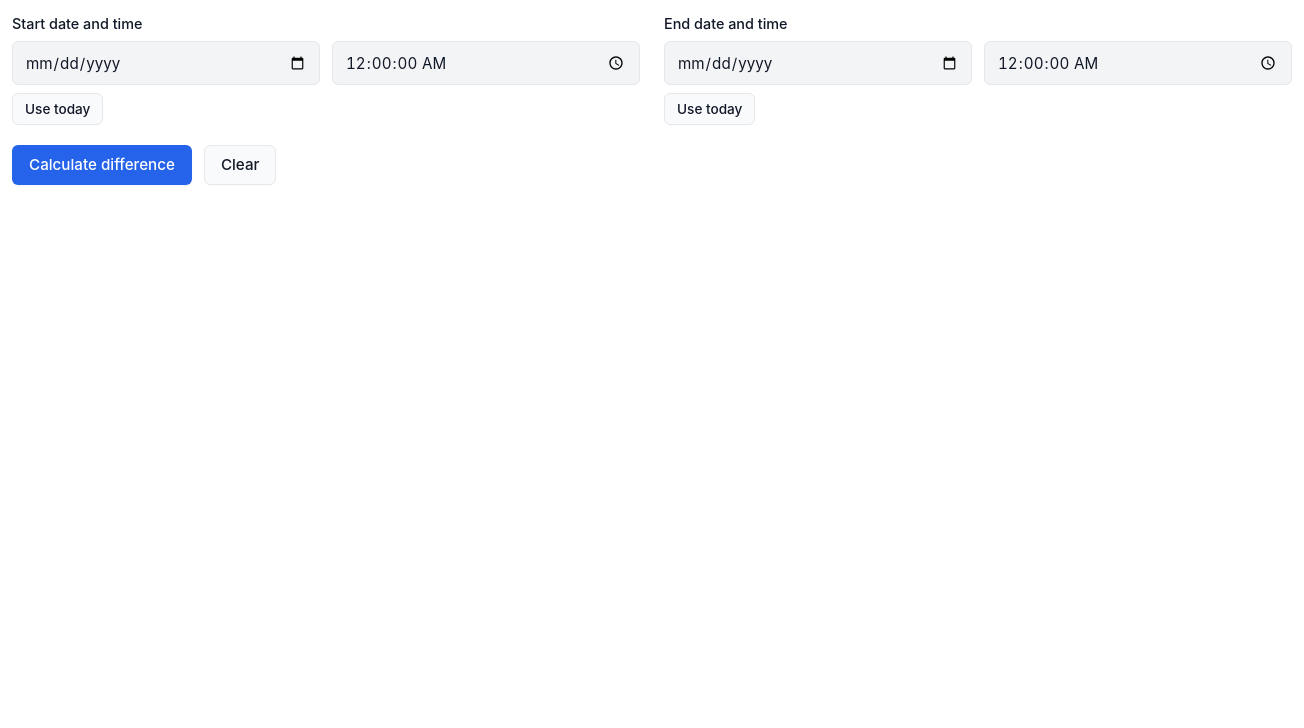
it: Date Difference Calculator › swaps a negative order and says so
The width and height of the screenshot is (1304, 728).
Type "2026-09-21" into the date field named "Start date and time date".
click(166, 63); type("2026-09-21")  # box x1=12 y1=41 x2=320 y2=85
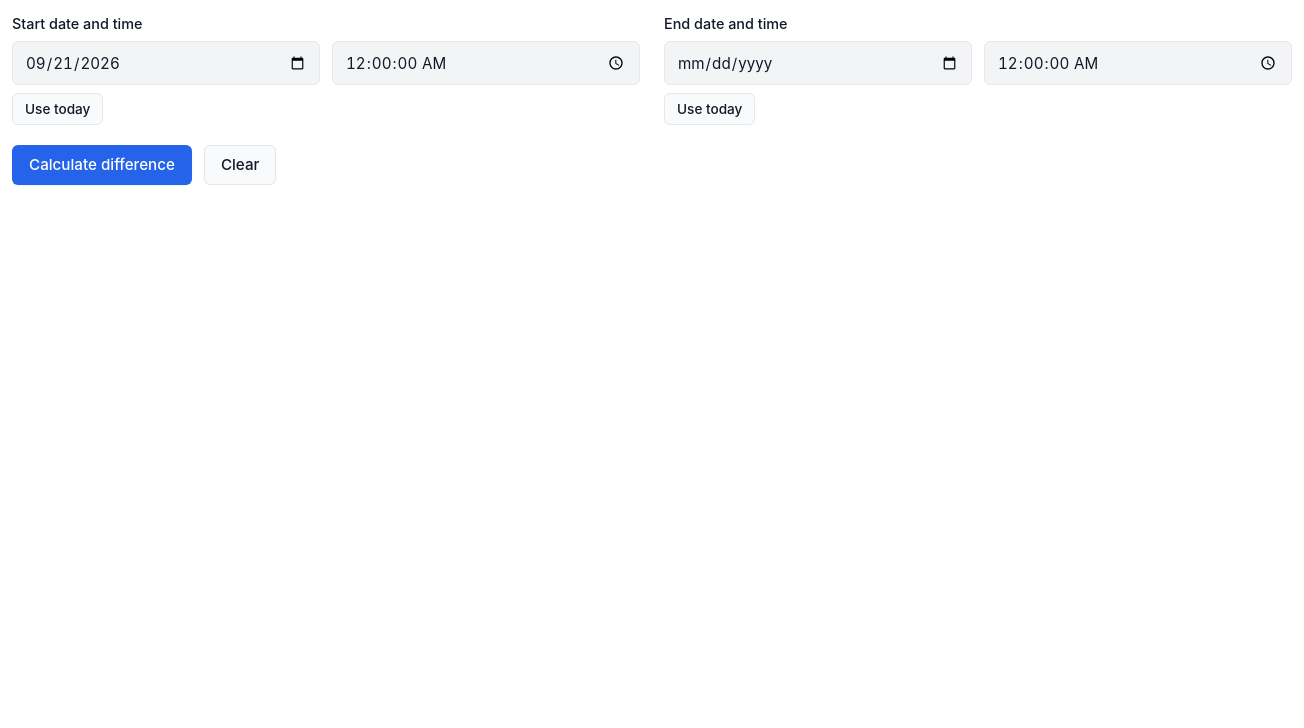
Type "2026-01-01" into the date field named "End date and time date".
click(818, 63); type("2026-01-01")  # box x1=664 y1=41 x2=972 y2=85
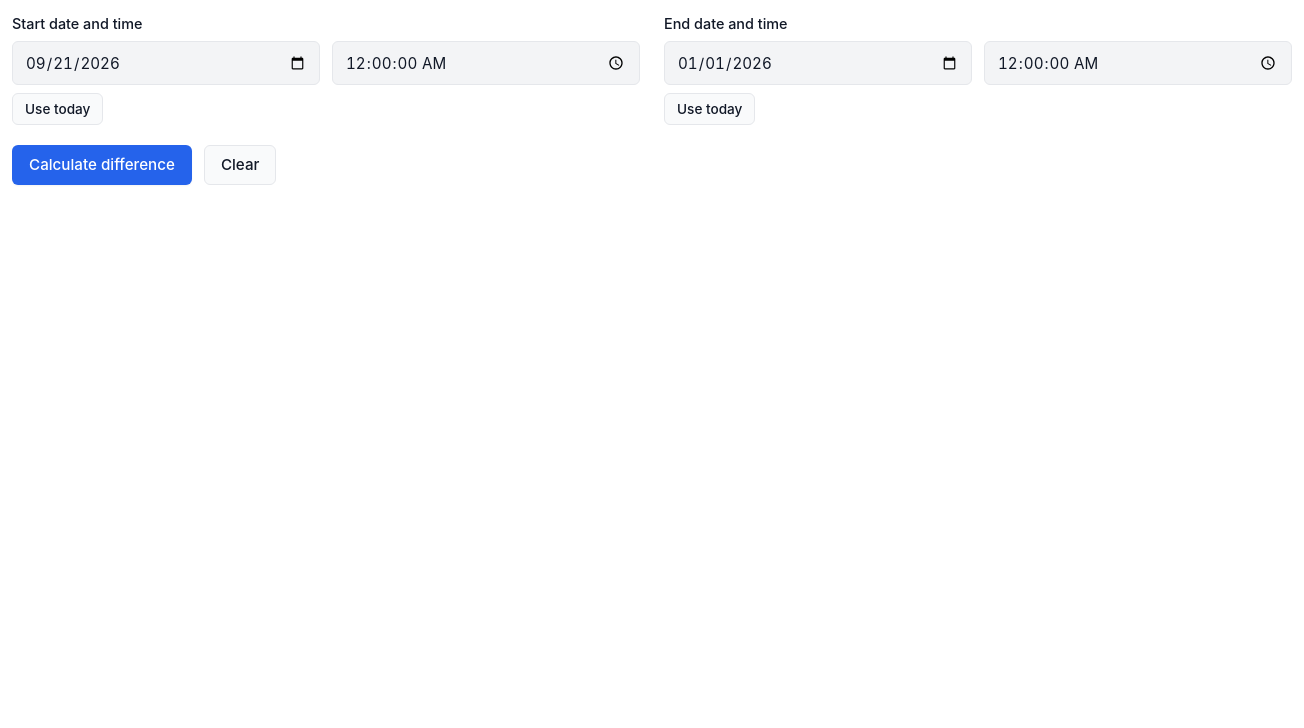
Click the button "Calculate difference".
click(102, 165)  # box x1=12 y1=145 x2=192 y2=185
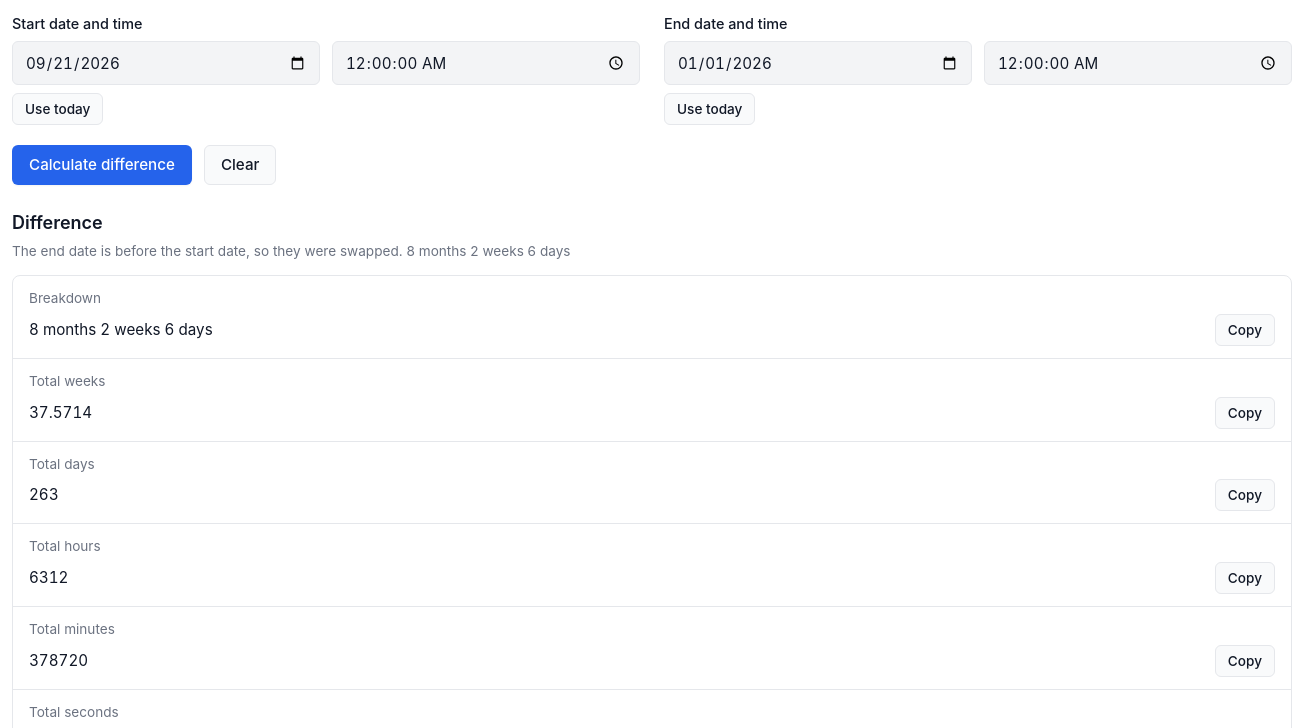
Check: the text "swapped" is shown, box x1=12 y1=243 x2=406 y2=259
